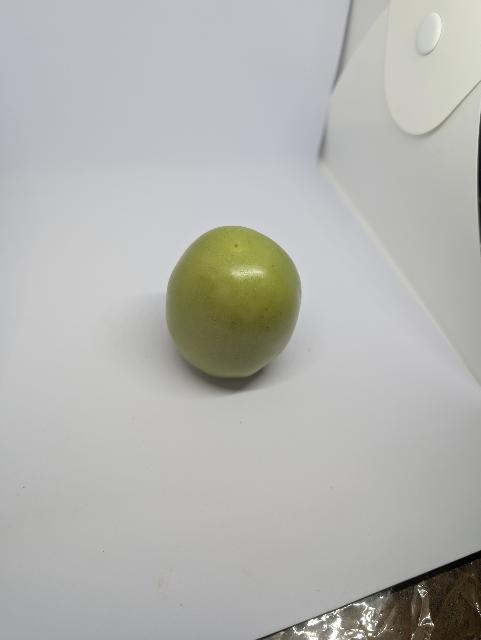green: (158, 218, 322, 407)
